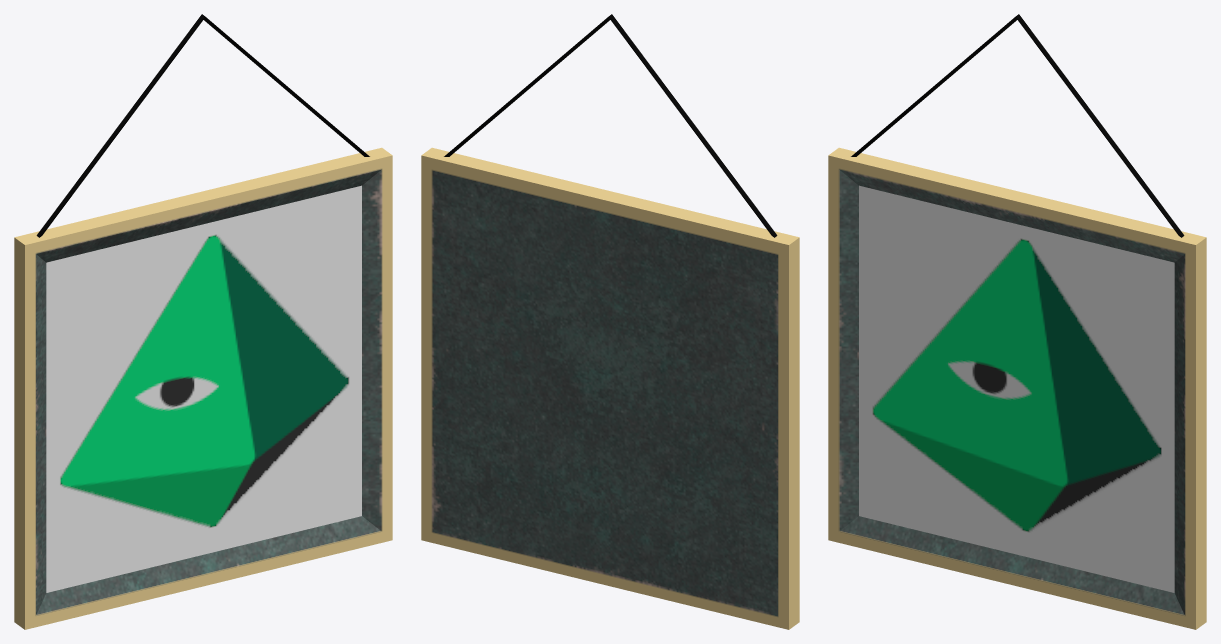
Rendered from Links_Frames_Big_PolygonalMind.glb.
The picture shows the model from 3 angles, left to right: view 1: azimuth 30°, elevation 25°; view 2: azimuth 150°, elevation 25°; view 3: azimuth 330°, elevation 25°; orthographic projection.
Visible parts, largest first — view 1: Links_Frames_Big_PolygonalMind; view 2: Links_Frames_Big_PolygonalMind; view 3: Links_Frames_Big_PolygonalMind.
Part boxes in pixels (x1,y1,x2,y2): Links_Frames_Big_PolygonalMind: (14,14,392,629); Links_Frames_Big_PolygonalMind: (421,14,799,629); Links_Frames_Big_PolygonalMind: (828,14,1206,629).
Bounding box in the file's own units: 2 × 2.94 × 0.1006.
2 materials, 2 textured.
